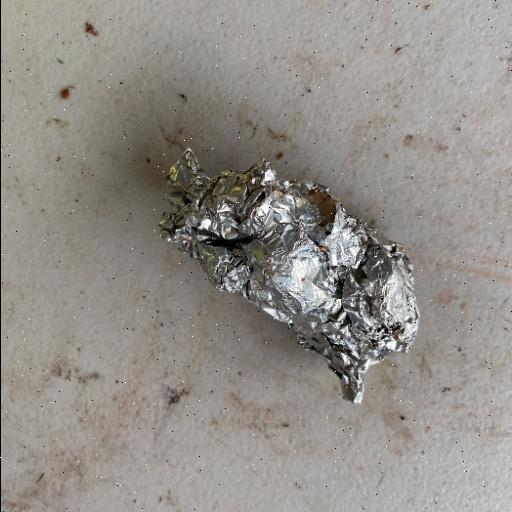Metal: (156, 146, 421, 404)
